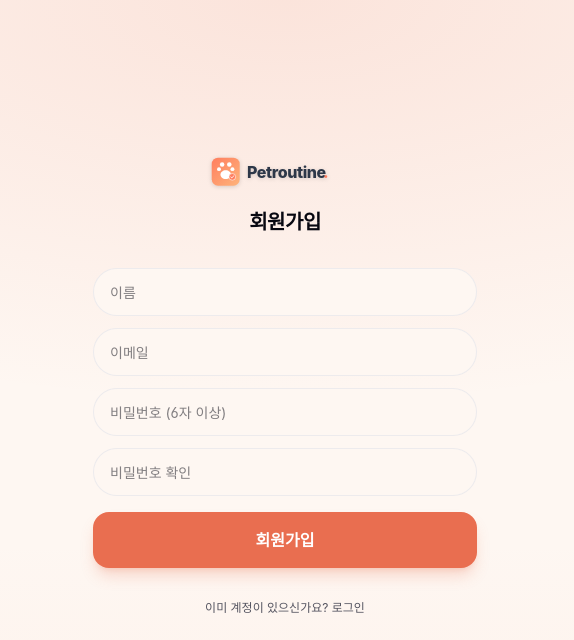
Test case: SignupPage › 비밀번호 불일치 시 에러 메시지를 표시한다
Type "홍길동" into the field with placeholder "이름" at x=285, y=292, box [93, 268, 477, 316]
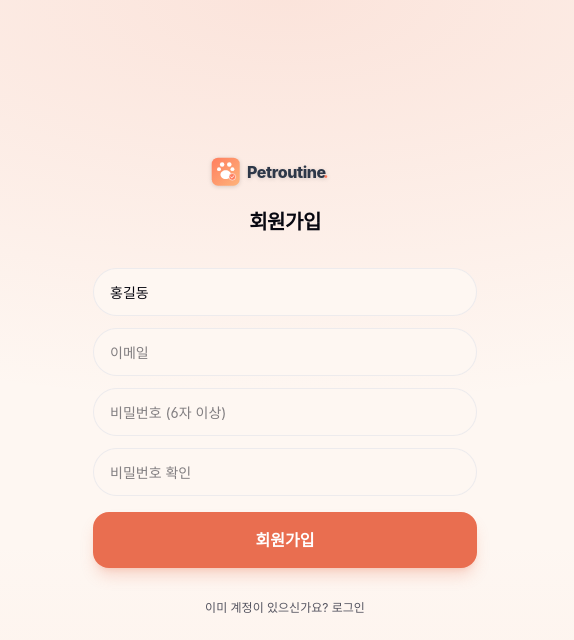
Type "test@example.com" into the field with placeholder "이메일" at x=285, y=352, box [93, 328, 477, 376]
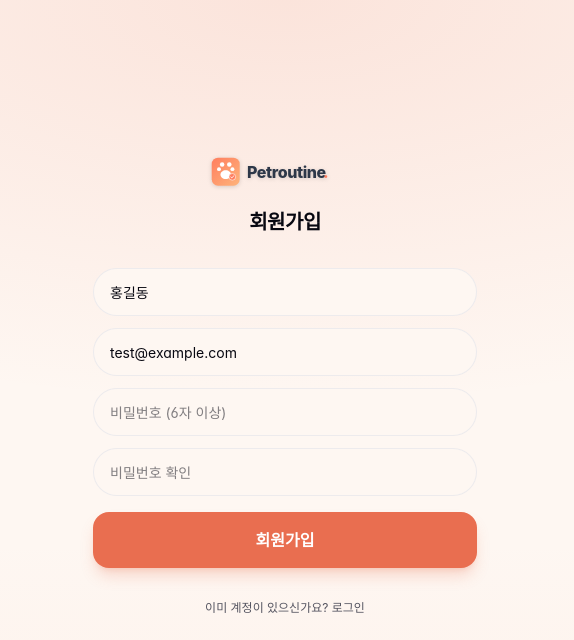
Type "password123" into the password field with placeholder "비밀번호 (6자 이상)" at x=285, y=412, box [93, 388, 477, 436]
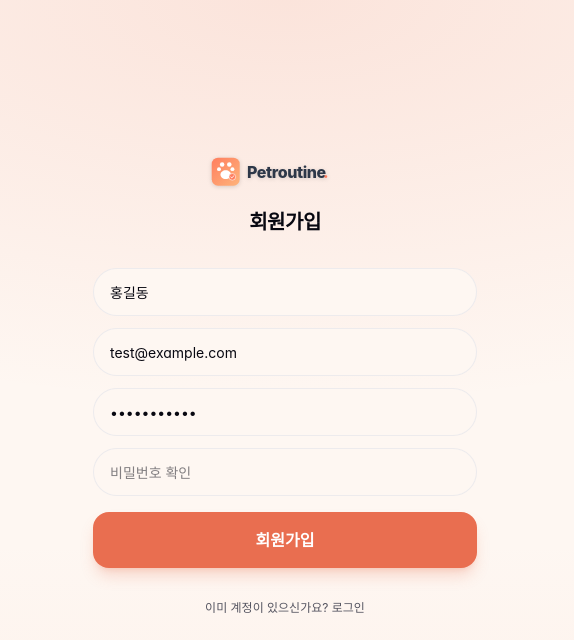
Type "different123" into the password field with placeholder "비밀번호 확인" at x=285, y=472, box [93, 448, 477, 496]
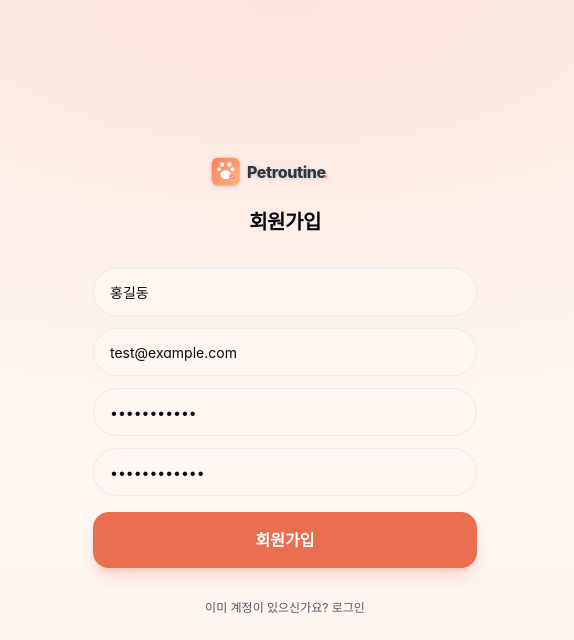
Click the button "회원가입" at x=285, y=540, box [93, 512, 477, 568]
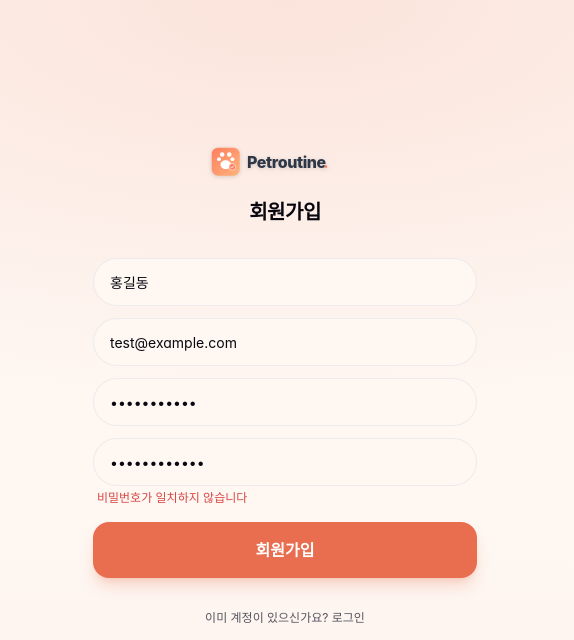
Now the text "비밀번호가 일치하지 않습니다" is shown, box [97, 490, 247, 505]
